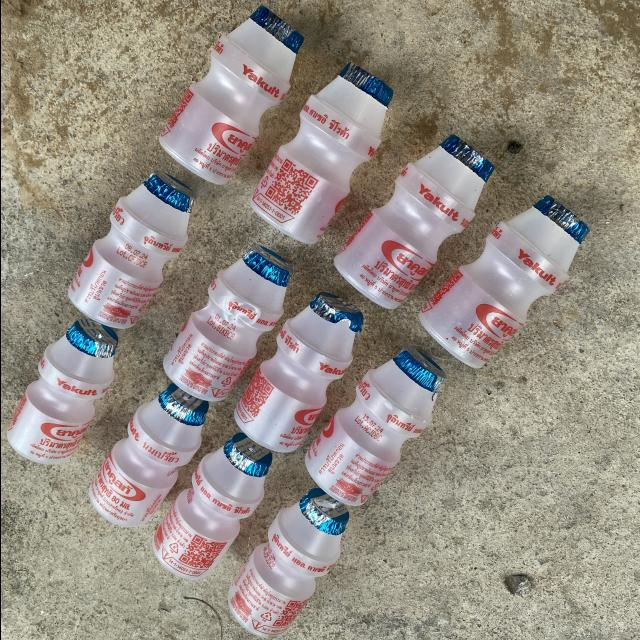plastik: (418, 198, 584, 368), (334, 136, 492, 309), (250, 63, 391, 244), (159, 7, 302, 184), (304, 347, 443, 506), (234, 293, 362, 452), (67, 171, 193, 328), (163, 245, 289, 401), (228, 488, 348, 637), (153, 433, 271, 580), (89, 384, 207, 527), (6, 319, 117, 465)
